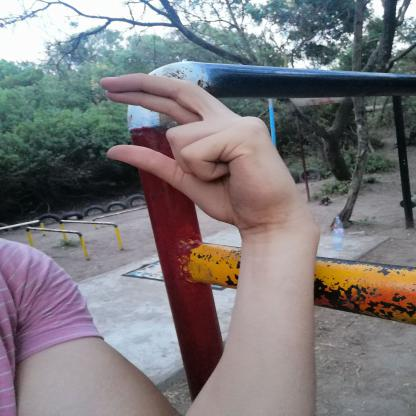DHELL: (80, 61, 317, 234)
